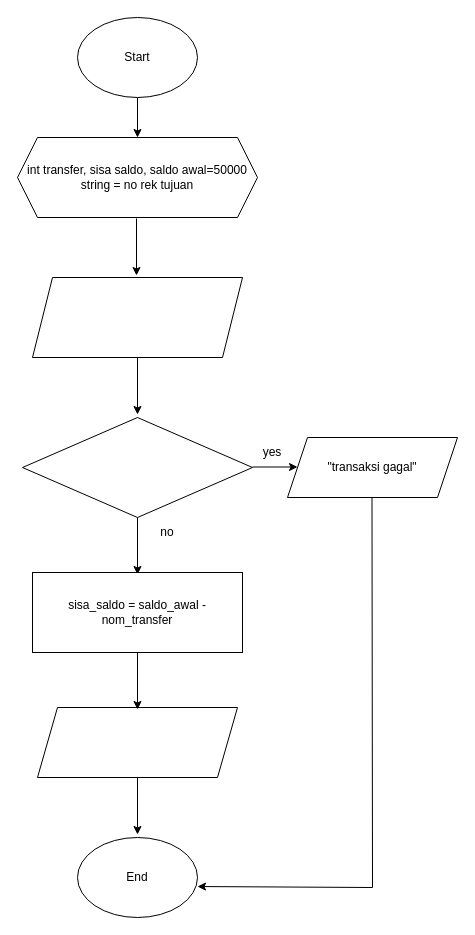
The diagram is 475 pixels wide and 935 high, and some of its shapes have lost their labels. Each missing label, with the centre of its shape:
no_rek_tujuan, nom_transfer: the point at 137,317
nom_transfer > saldo_awal?: the point at 137,467
sisa saldo: the point at 137,742
